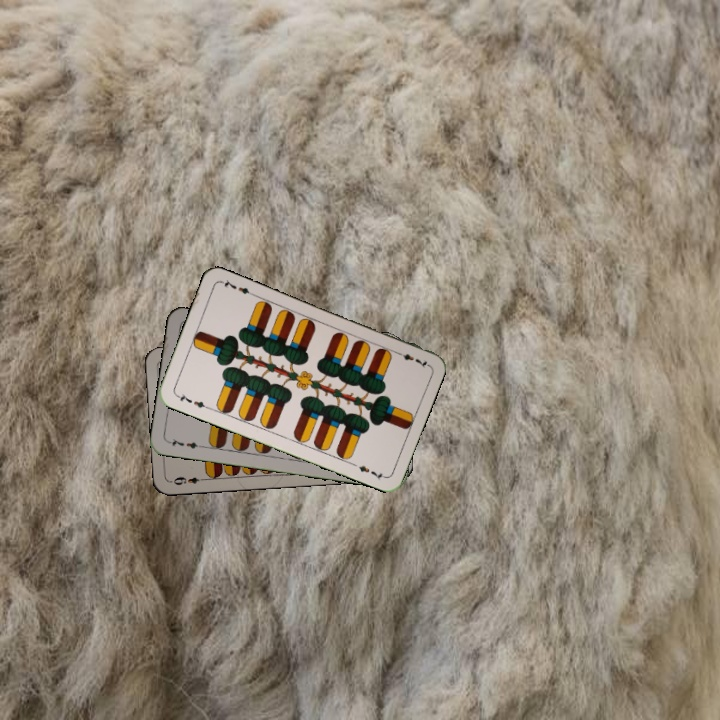E7: (392, 347, 431, 371), (172, 389, 211, 412), (164, 434, 205, 451)
E9: (168, 473, 208, 488)
